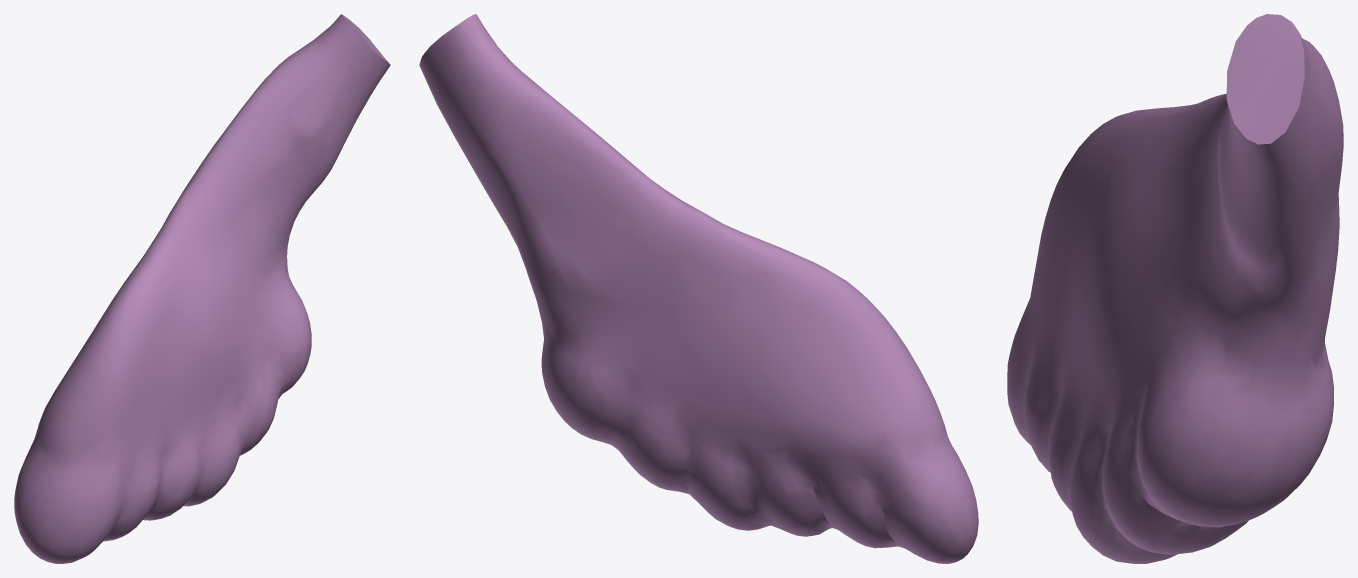
3 views of the same model, side by side, from view 1: azimuth 30°, elevation 25°; view 2: azimuth 150°, elevation 25°; view 3: azimuth 270°, elevation 25° (orthographic). The views are drawn at different scales.
Visible parts, largest first — view 1: 右侧绒球; view 2: 右侧绒球; view 3: 右侧绒球.
Boxes of the visible parts, x1,y1,x2,y2 form: 右侧绒球: (14, 14, 390, 563); 右侧绒球: (419, 14, 978, 563); 右侧绒球: (1007, 14, 1343, 563).
Bounding box in the file's own units: 0.0271 × 0.0261 × 0.011.
